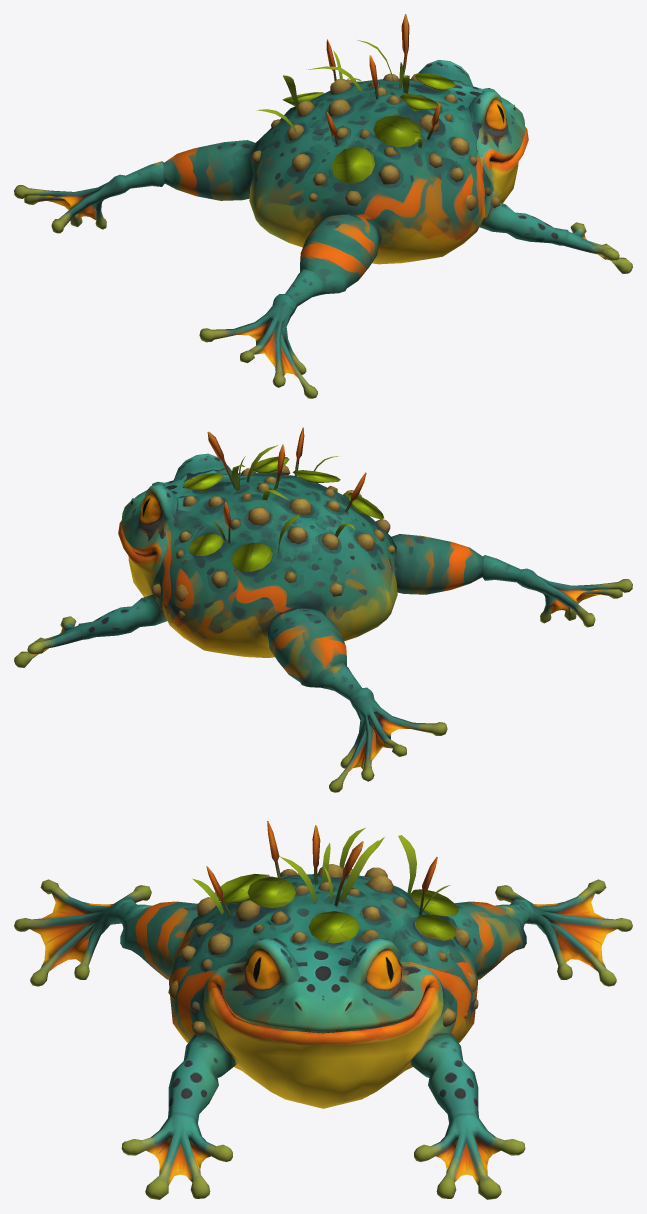
The model's file is generate_model.glb.
3 renders of one model, top to bottom at view 1: azimuth 30°, elevation 25°; view 2: azimuth 150°, elevation 25°; view 3: azimuth 270°, elevation 25°, orthographic. The views are drawn at different scales.
Parts seen in each view (by area): view 1: tripo_node_c21d3d89-98ac-4266-8c07-12b079c26a6b; view 2: tripo_node_c21d3d89-98ac-4266-8c07-12b079c26a6b; view 3: tripo_node_c21d3d89-98ac-4266-8c07-12b079c26a6b.
Part boxes in pixels (x1,y1,x2,y2): tripo_node_c21d3d89-98ac-4266-8c07-12b079c26a6b: [14, 14, 632, 398]; tripo_node_c21d3d89-98ac-4266-8c07-12b079c26a6b: [14, 427, 632, 792]; tripo_node_c21d3d89-98ac-4266-8c07-12b079c26a6b: [14, 821, 632, 1199].
Size of the model in its own units: 0.9858 by 0.4985 by 0.9995.
Materials: 1 (1 with a texture image).
